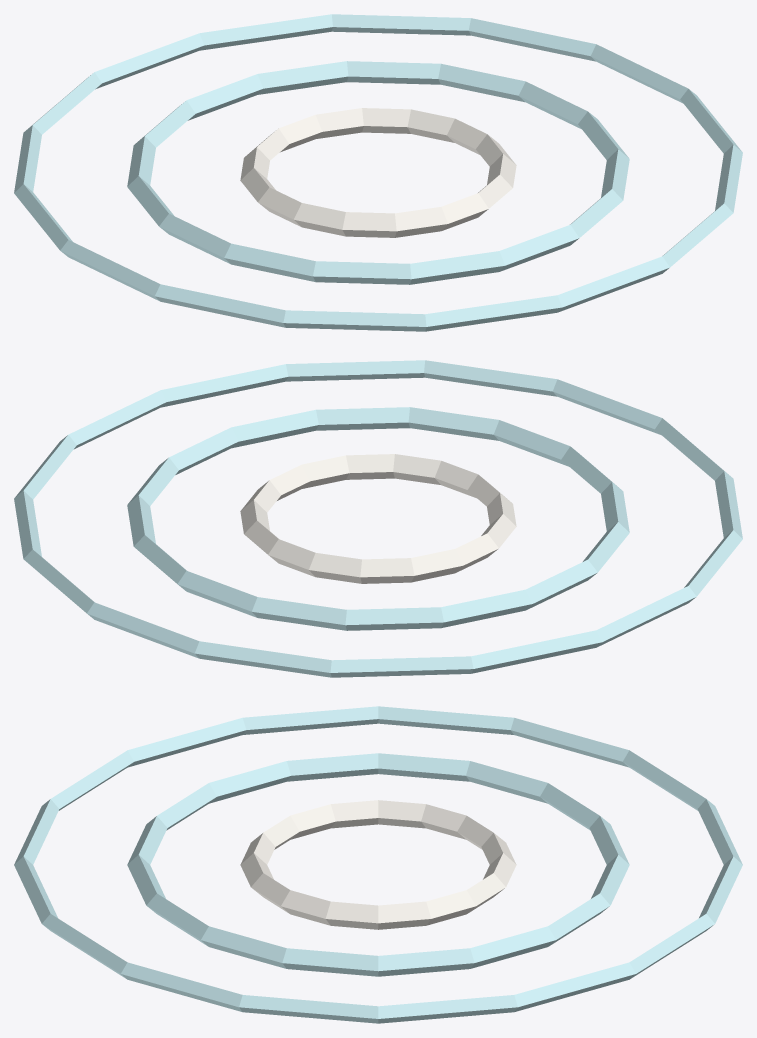
File: ripple.glb
3 views of the same model, one above another, from view 1: azimuth 30°, elevation 25°; view 2: azimuth 150°, elevation 25°; view 3: azimuth 270°, elevation 25° (orthographic).
Visible parts, largest first — view 1: ripple; view 2: ripple; view 3: ripple.
Part boxes in pixels (<box>): ripple: <box>14,14,742,331</box>; ripple: <box>14,360,742,677</box>; ripple: <box>14,706,742,1023</box>.
Bounding box in the file's own units: 0.76 × 0.028 × 0.76.
